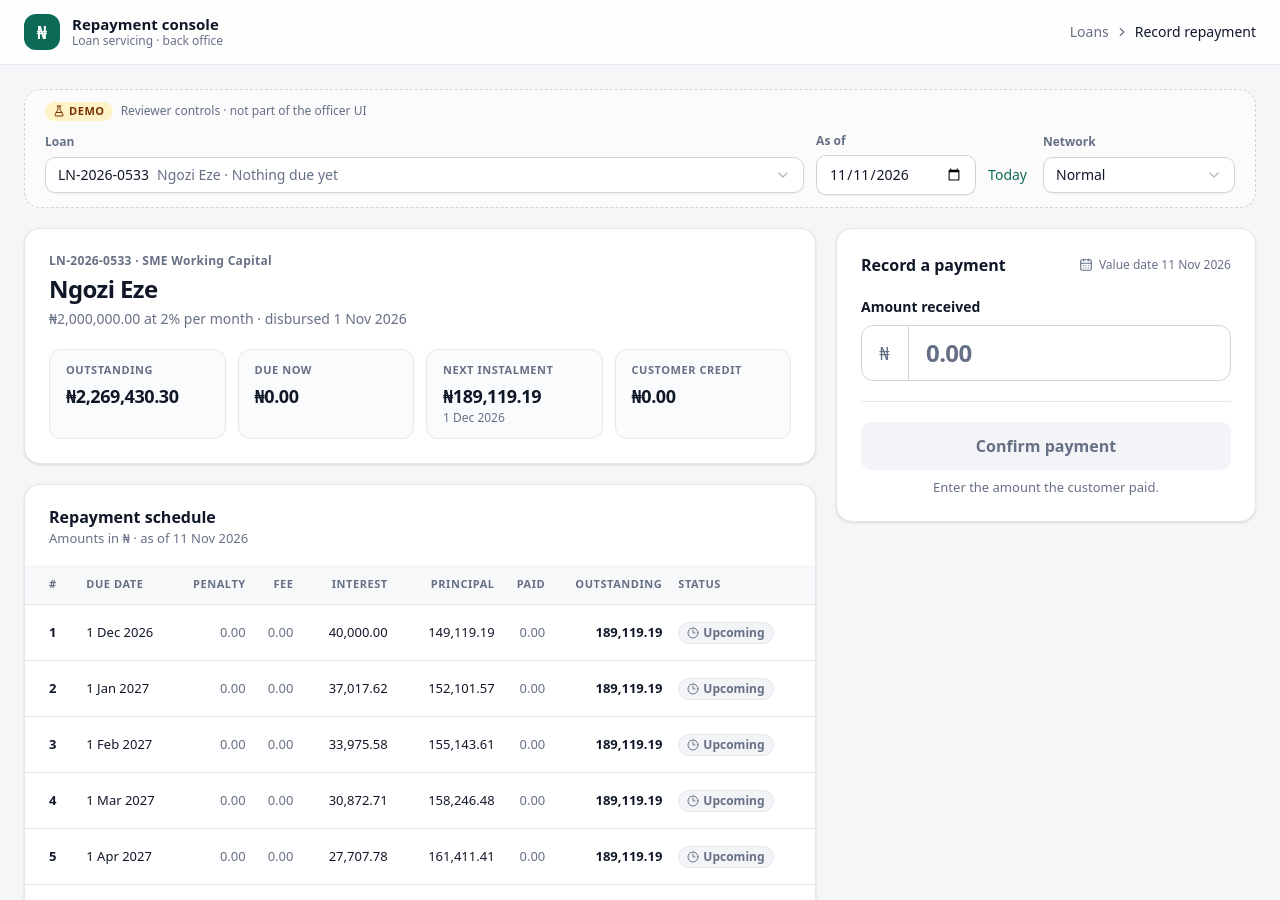
Scenario: Edge cases › explains when nothing is due yet
Expected: the heading "Ngozi Eze" is shown, [49,272,158,305]
In the field labelled "Amount received": {"x": 1046, "y": 353} [861,325,1231,381], type "1000"
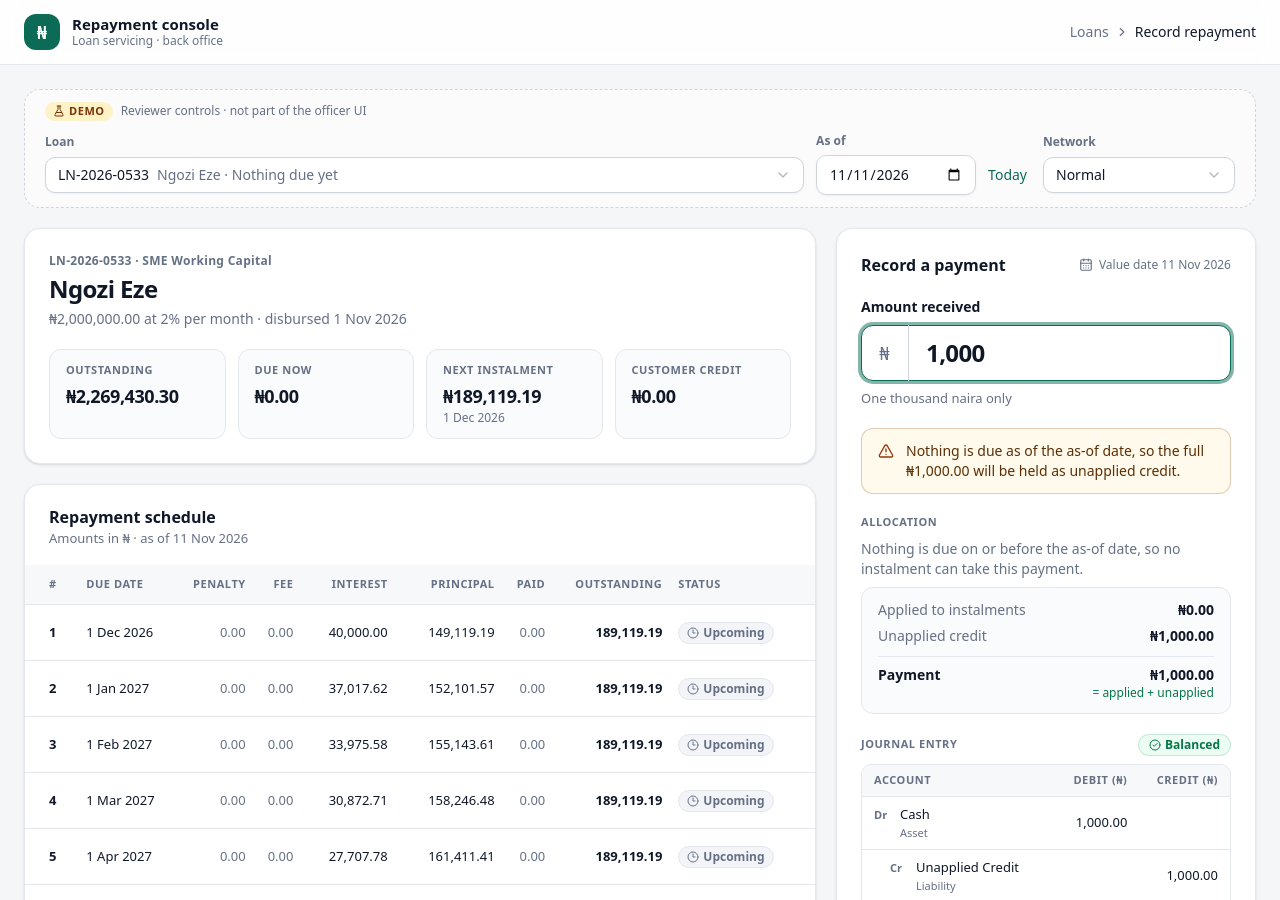
Now the text "Nothing is due as of the as-of date" is shown, box [906,441,1204,480]
